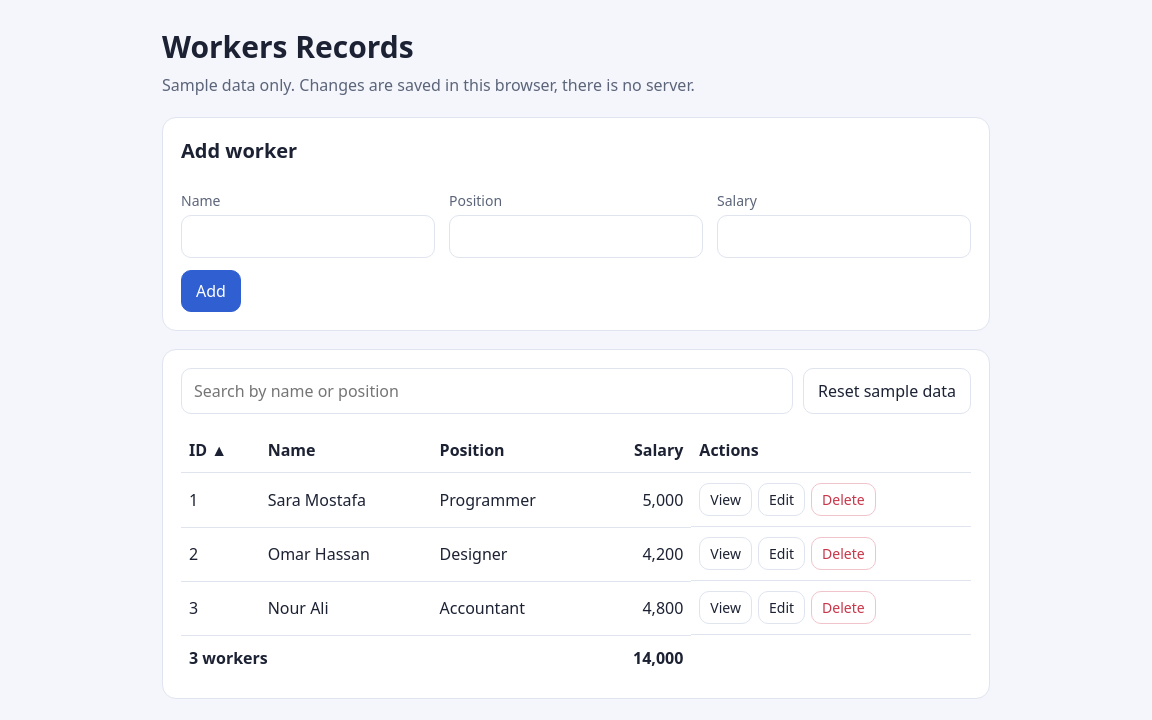
App › edits a worker
The width and height of the screenshot is (1152, 720).
Click the button with aria-label "Edit Omar Hassan" at (782, 554), box [758, 537, 805, 570]
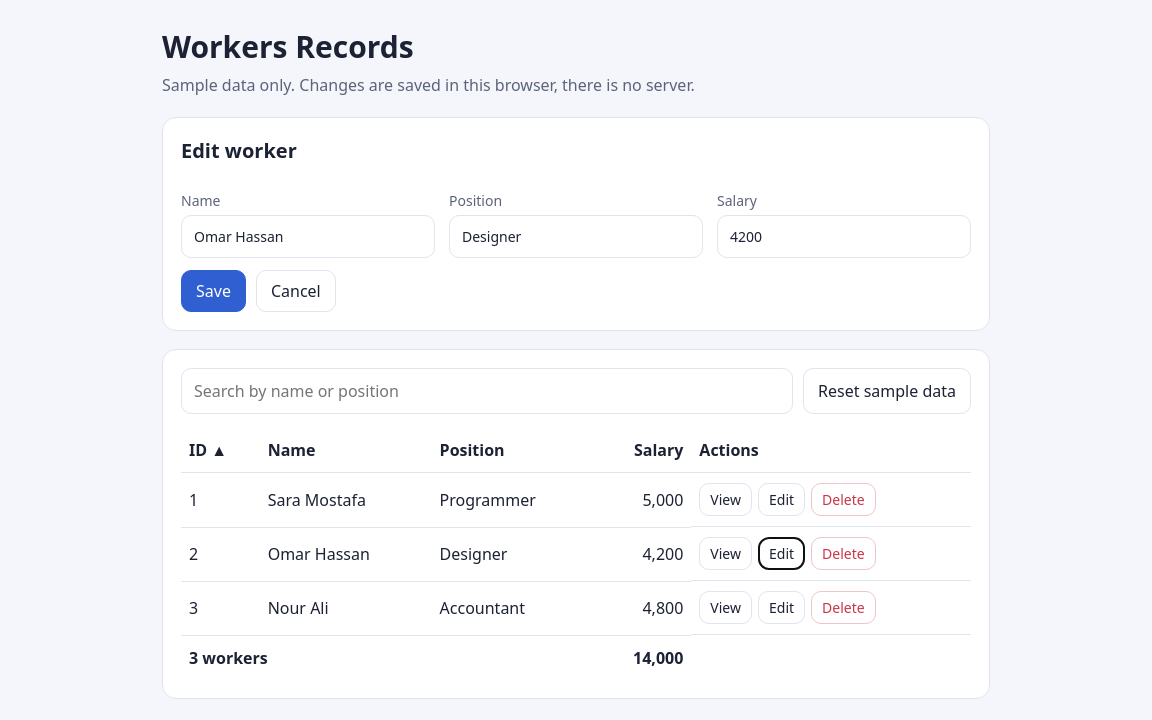
Replace the text in the field labelled "Salary" with "9000" at (844, 236), box [717, 215, 971, 258]
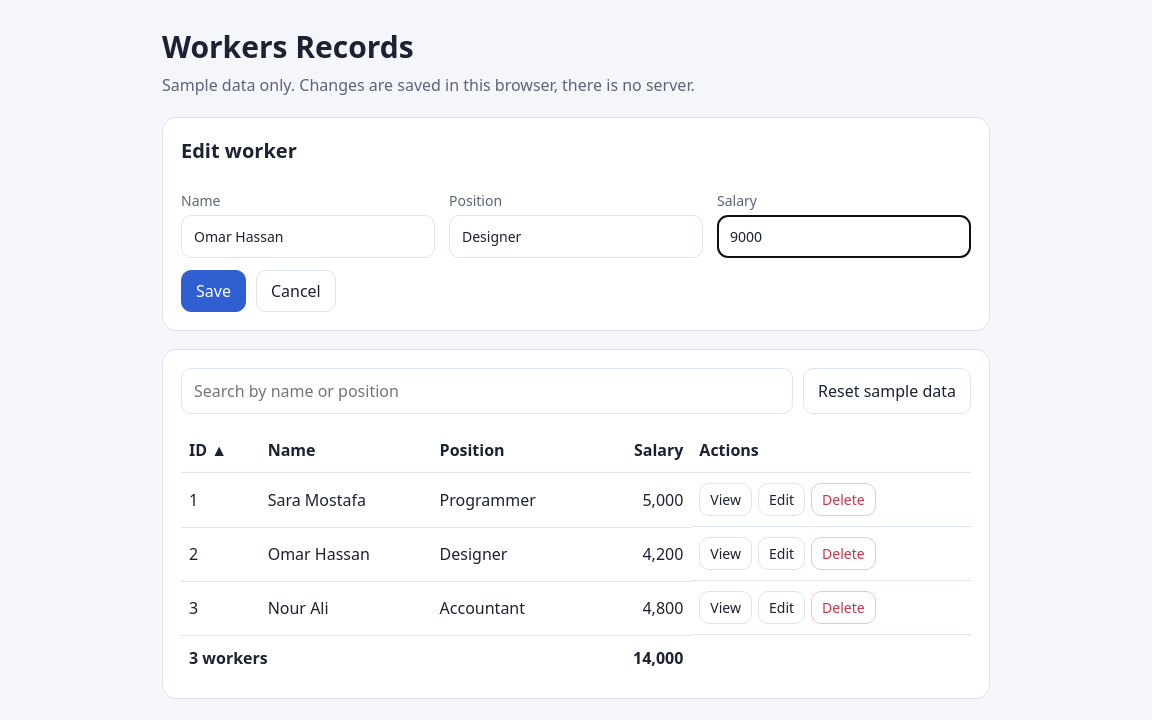
Click the button "Save" at (213, 291), box [181, 270, 246, 312]
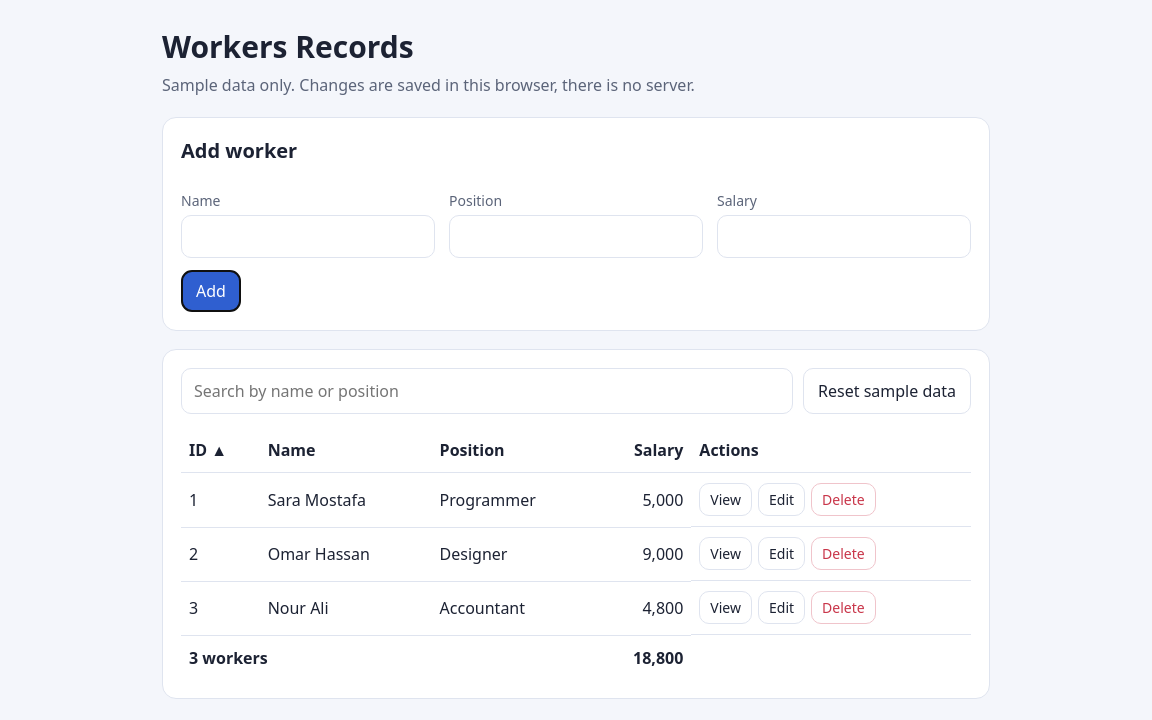
expect the text "9,000" is shown: met, box [595, 527, 691, 581]
